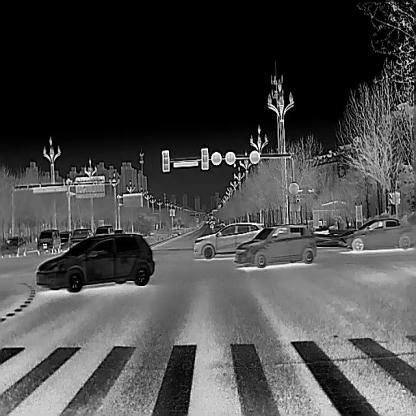car: (35, 232, 154, 291), (233, 223, 316, 267), (192, 221, 266, 258), (338, 219, 416, 250), (36, 228, 60, 254), (1, 234, 26, 258), (69, 228, 93, 248), (94, 224, 115, 239), (59, 230, 72, 249)
